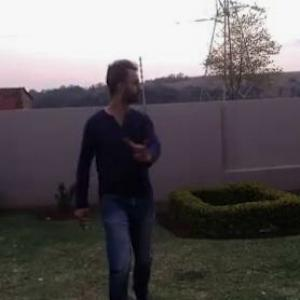takeoff-hand: (123, 129, 156, 165)
